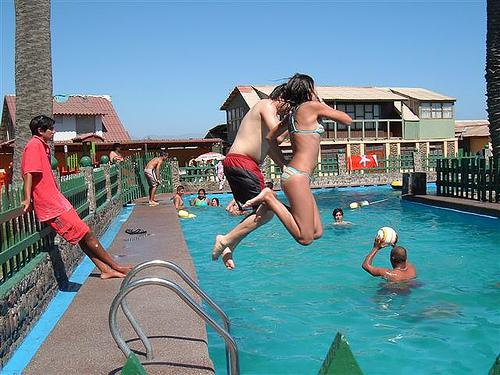swimmer: (358, 232, 417, 288), (190, 186, 212, 208), (322, 207, 346, 227), (172, 182, 187, 210), (212, 195, 220, 207)
